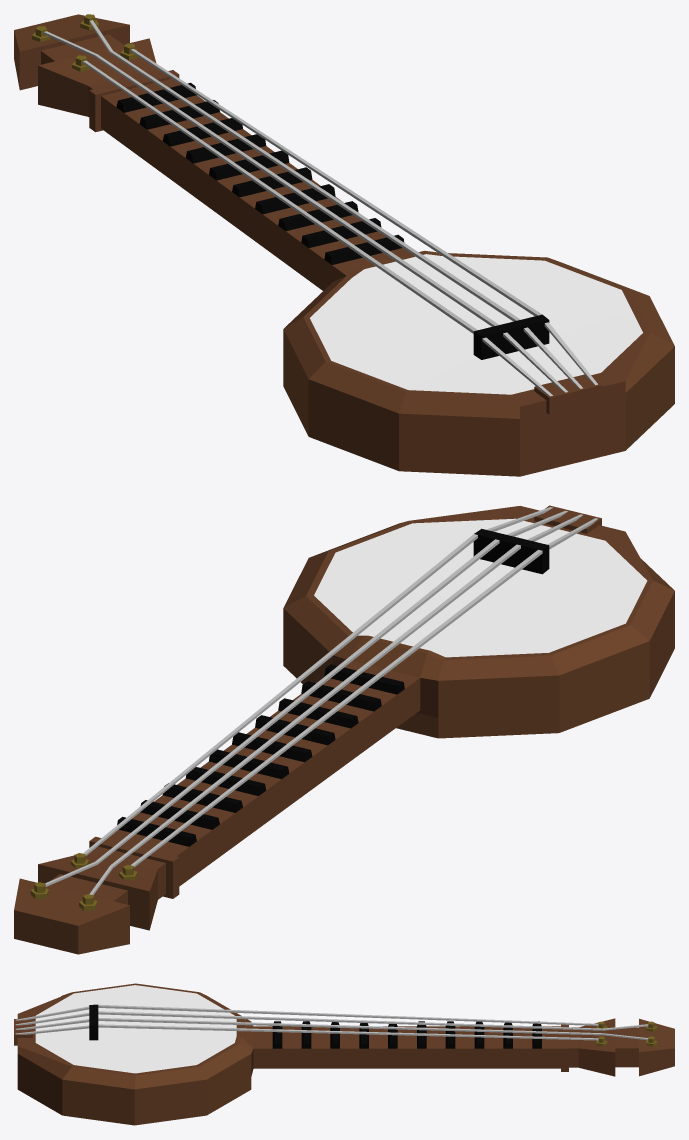
The model's file is banjo01.gltf.
The picture shows the model from 3 angles, top to bottom: view 1: azimuth 30°, elevation 25°; view 2: azimuth 150°, elevation 25°; view 3: azimuth 270°, elevation 25°; orthographic projection. The views are drawn at different scales.
Parts seen in each view (by area): view 1: Cylinder; view 2: Cylinder; view 3: Cylinder.
Boxes of the visible parts, x1=… form: Cylinder: x1=14, y1=14, x2=674, y2=476; Cylinder: x1=14, y1=505, x2=674, y2=954; Cylinder: x1=14, y1=983, x2=674, y2=1125.
Bounding box in the file's own units: 0.2576 × 0.0675 × 0.6929.
1 material, 1 textured.
